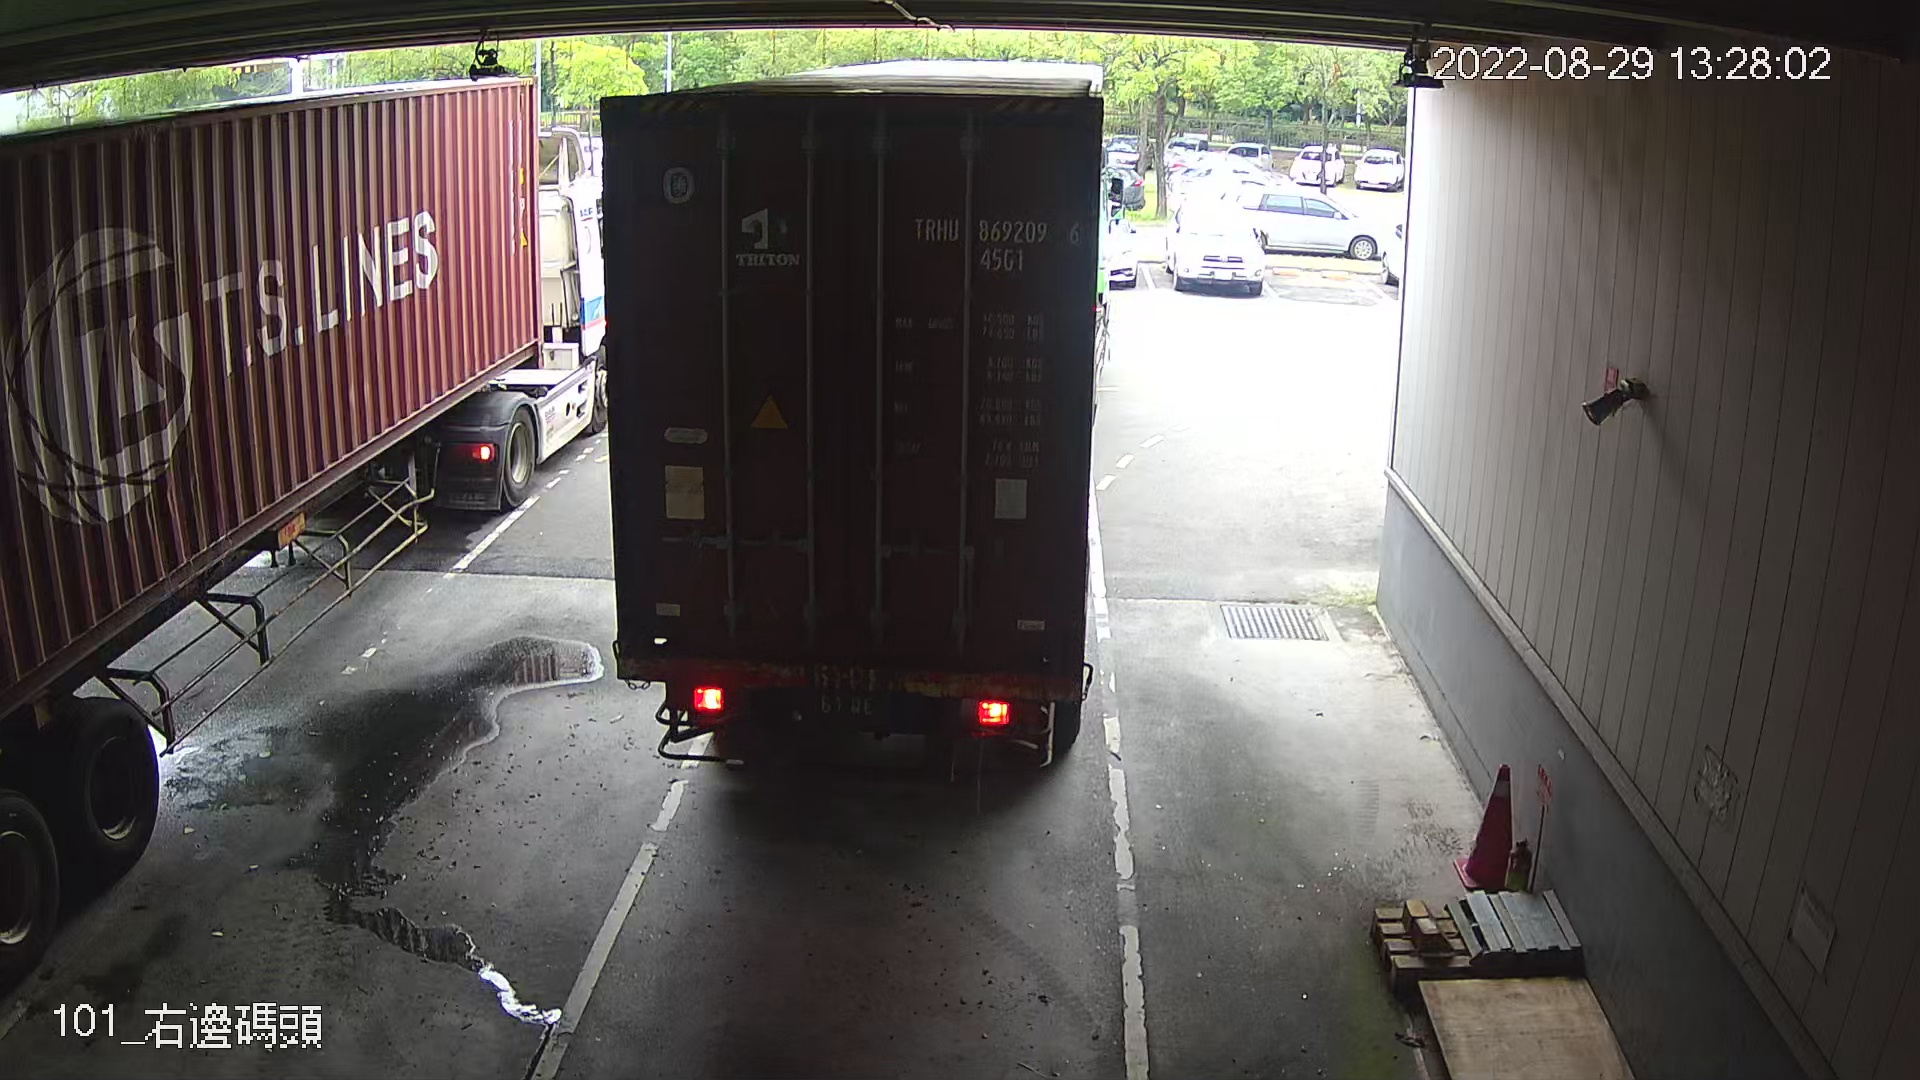container: (899, 206, 1089, 281)
